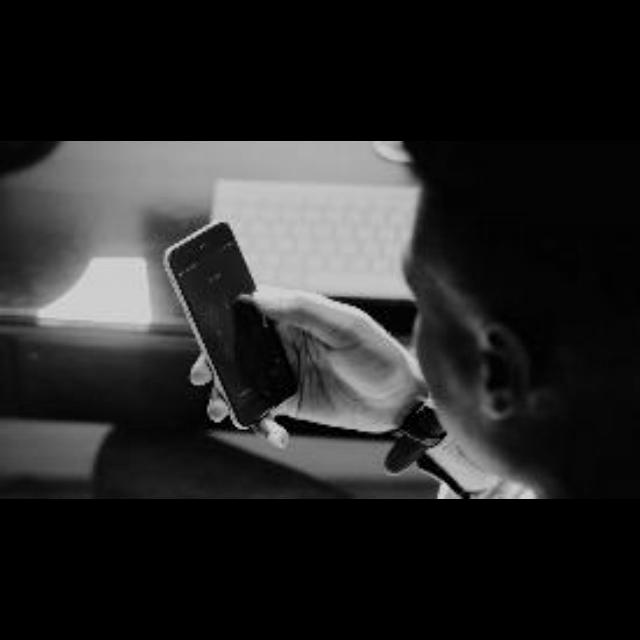fake: (162, 218, 307, 434)
